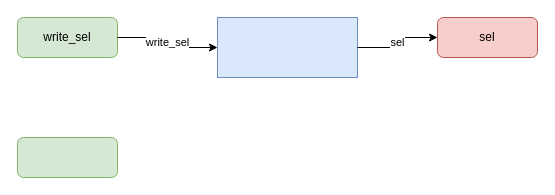
Some shapes in this 555 by 195 pixel diagram are drawn without their labels. The shapes that lost their labels are listed below. From the top down, each one's centre as x and y in pixels, then its label:
(x=287, y=47): shl $build\decoder_synth.v:17$shl$1
(x=67, y=157): write_ena
